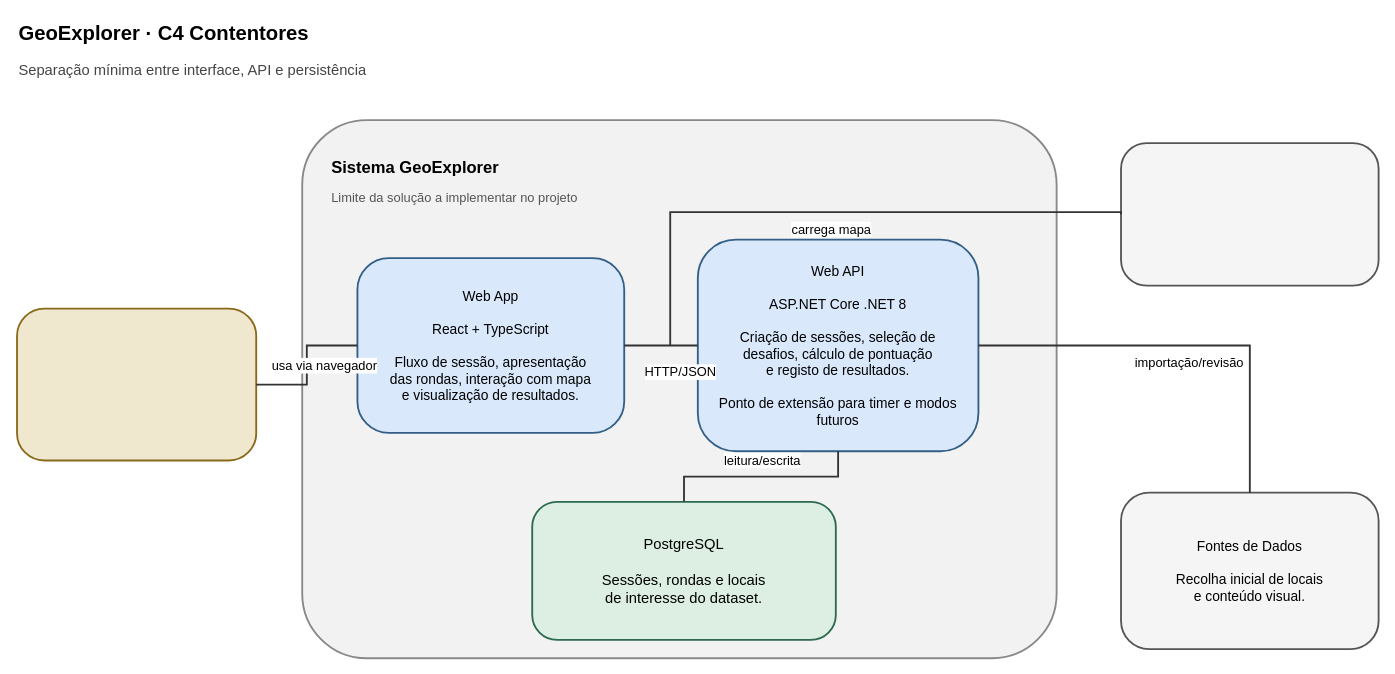
This 1395x674 diagram has some shape labels left out. Here are the shapes that lost their labels. From the top down, the centre of each, then its label:
At (x=1249, y=214): "Serviço de Mapas Tiles e interação cartográfica MapLibre / OSM".
At (x=136, y=384): "Jogador Individual Usa a aplicação web no navegador.".
